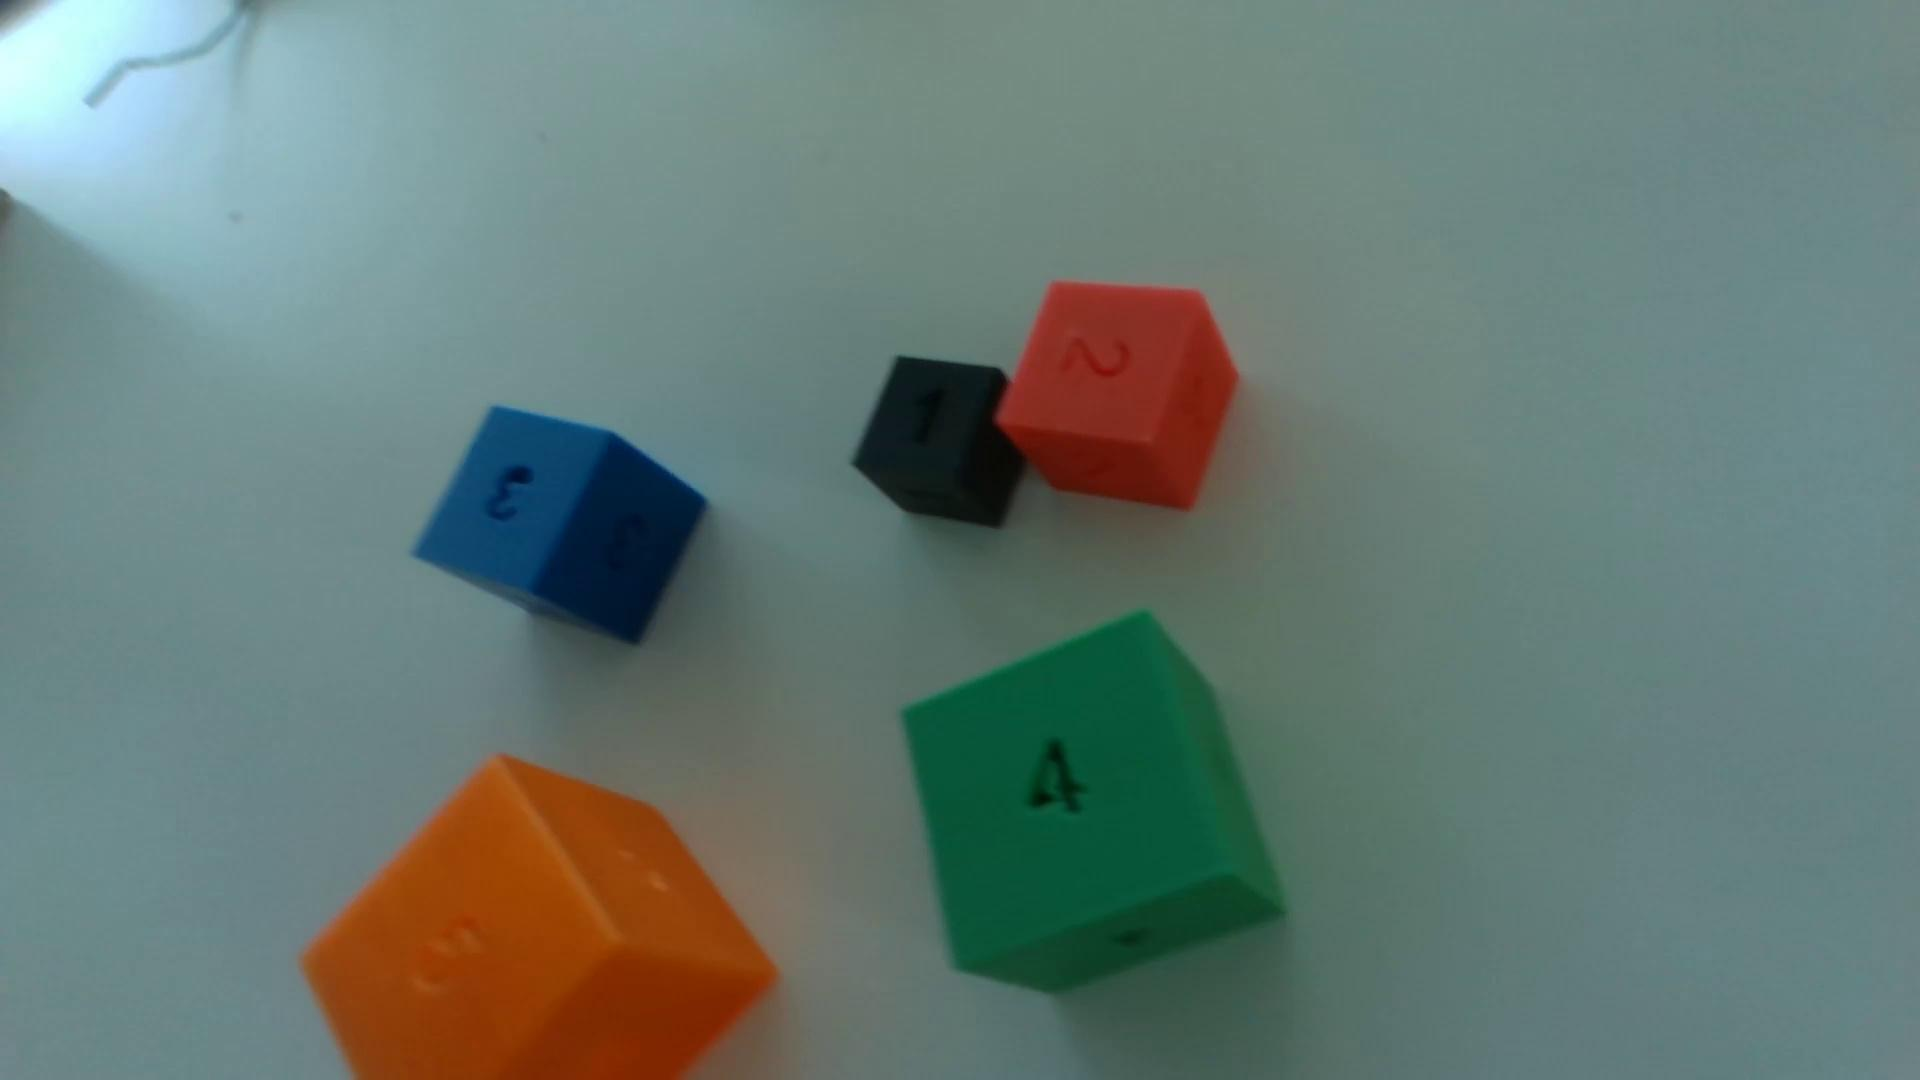black: (852, 357, 1025, 529)
blue: (414, 407, 708, 645)
green: (905, 613, 1282, 993)
orange: (303, 757, 775, 1080)
red: (998, 282, 1238, 512)
